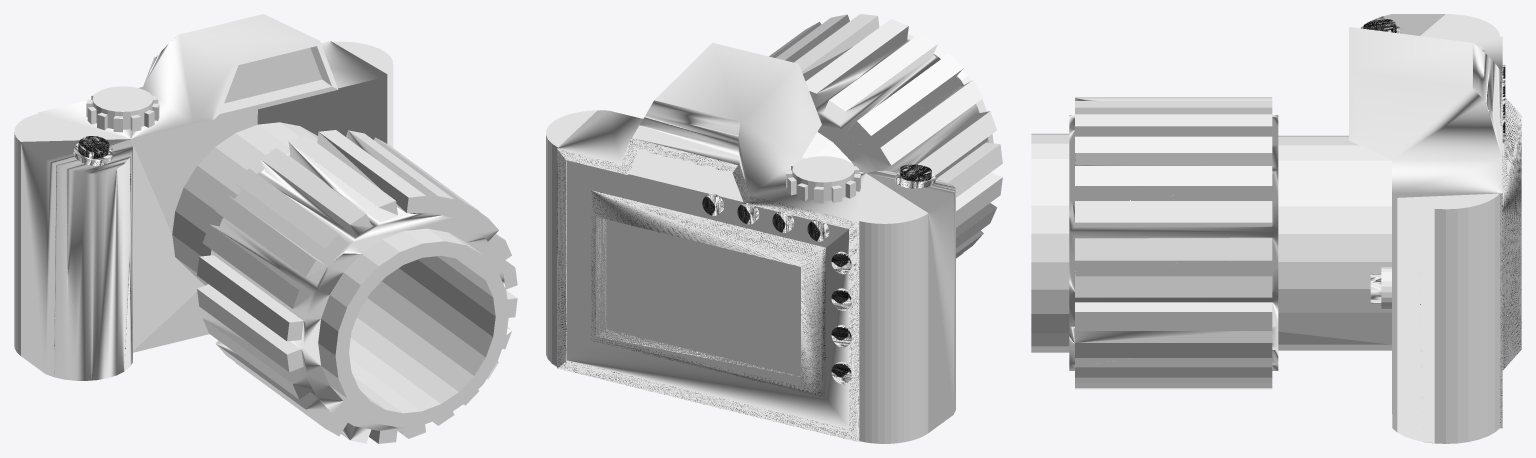
Rendered from model_align.obj.
The picture shows the model from 3 angles, left to right: view 1: azimuth 30°, elevation 25°; view 2: azimuth 150°, elevation 25°; view 3: azimuth 270°, elevation 25°; orthographic projection. The views are drawn at different scales.
Size of the model in its own units: 0.1547 by 0.1205 by 0.1641.
